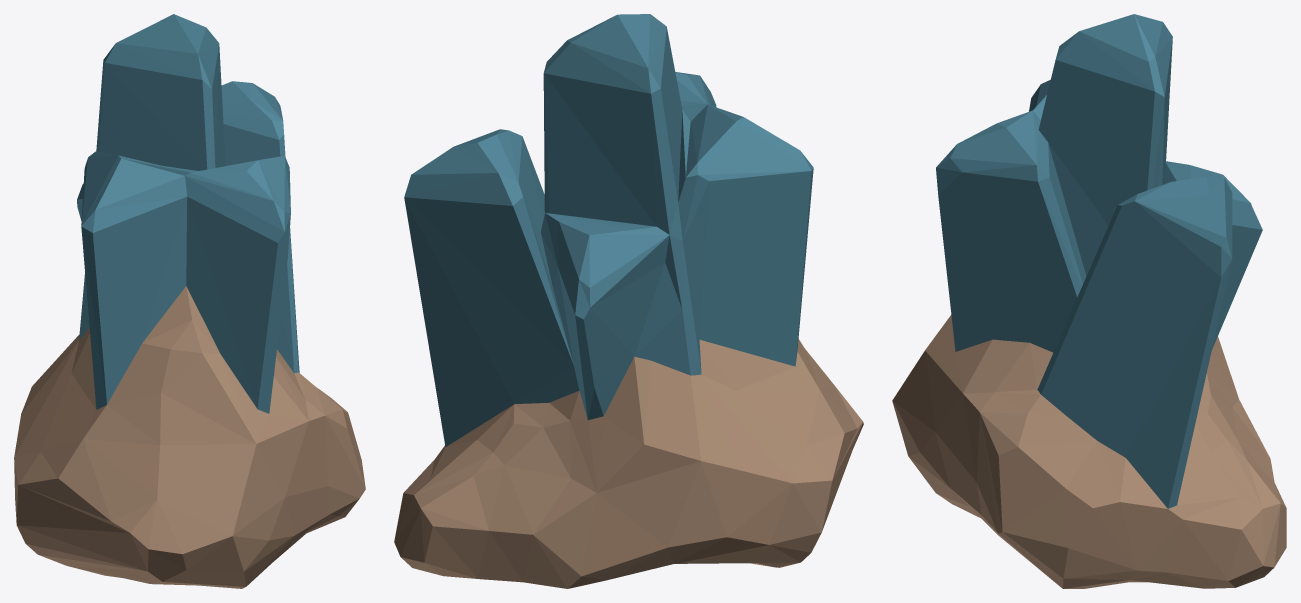
Rendered from SM_LP_Mineral_4.fbx.
3 renders of one model, left to right at view 1: azimuth 30°, elevation 25°; view 2: azimuth 150°, elevation 25°; view 3: azimuth 270°, elevation 25°, orthographic. The views are drawn at different scales.
Parts seen in each view (by area): view 1: SM_LP_Mineral_4; view 2: SM_LP_Mineral_4; view 3: SM_LP_Mineral_4.
Part boxes in pixels (left/top/right/bottom): SM_LP_Mineral_4: left=14, top=14, right=365, bottom=588; SM_LP_Mineral_4: left=394, top=14, right=863, bottom=588; SM_LP_Mineral_4: left=892, top=14, right=1286, bottom=588.
Bounding box in the file's own units: 0.6577 × 0.9974 × 0.6752.
